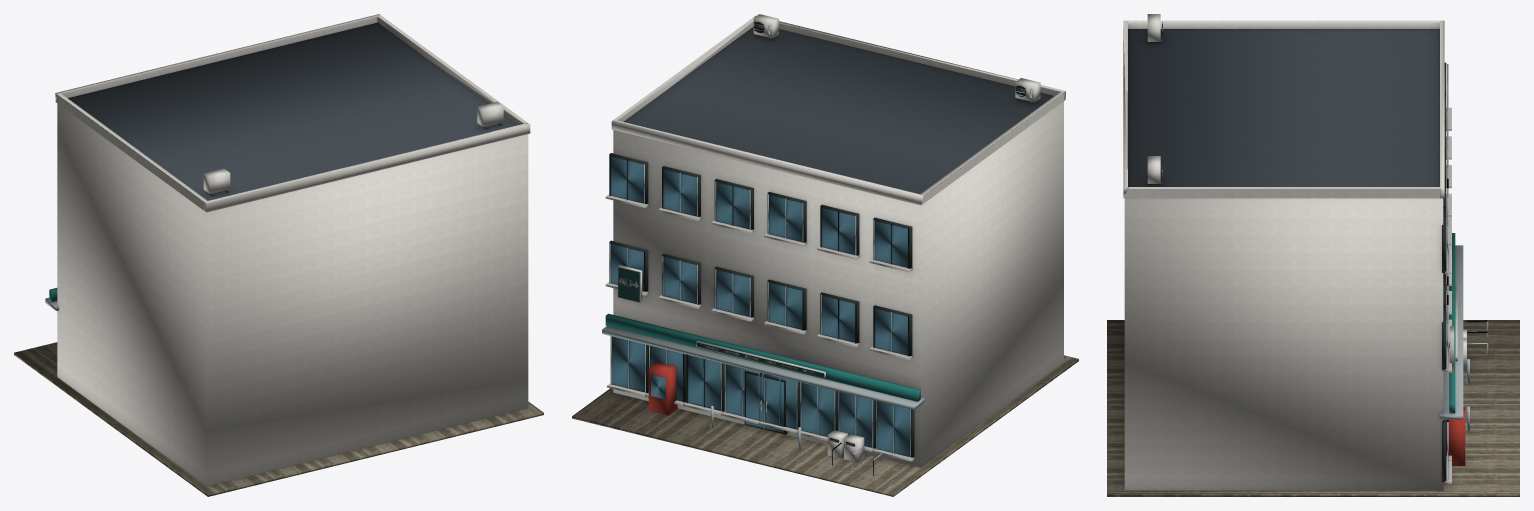
The model's file is convenience_urban_001.obj.
3 views of the same model, side by side, from view 1: azimuth 30°, elevation 25°; view 2: azimuth 150°, elevation 25°; view 3: azimuth 270°, elevation 25° (orthographic). The views are drawn at different scales.
Visible parts, largest first — view 1: convenience_urban_001; view 2: convenience_urban_001; view 3: convenience_urban_001.
Boxes of the visible parts, x1=… form: convenience_urban_001: x1=14, y1=14, x2=543, y2=496; convenience_urban_001: x1=572, y1=14, x2=1078, y2=496; convenience_urban_001: x1=1107, y1=14, x2=1519, y2=496.
Bounding box in the file's own units: 14 × 11.95 × 14.
1 material, 1 textured.
